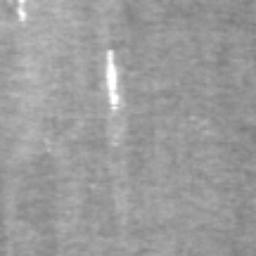White rust: (104, 48, 121, 110), (15, 0, 28, 21)
